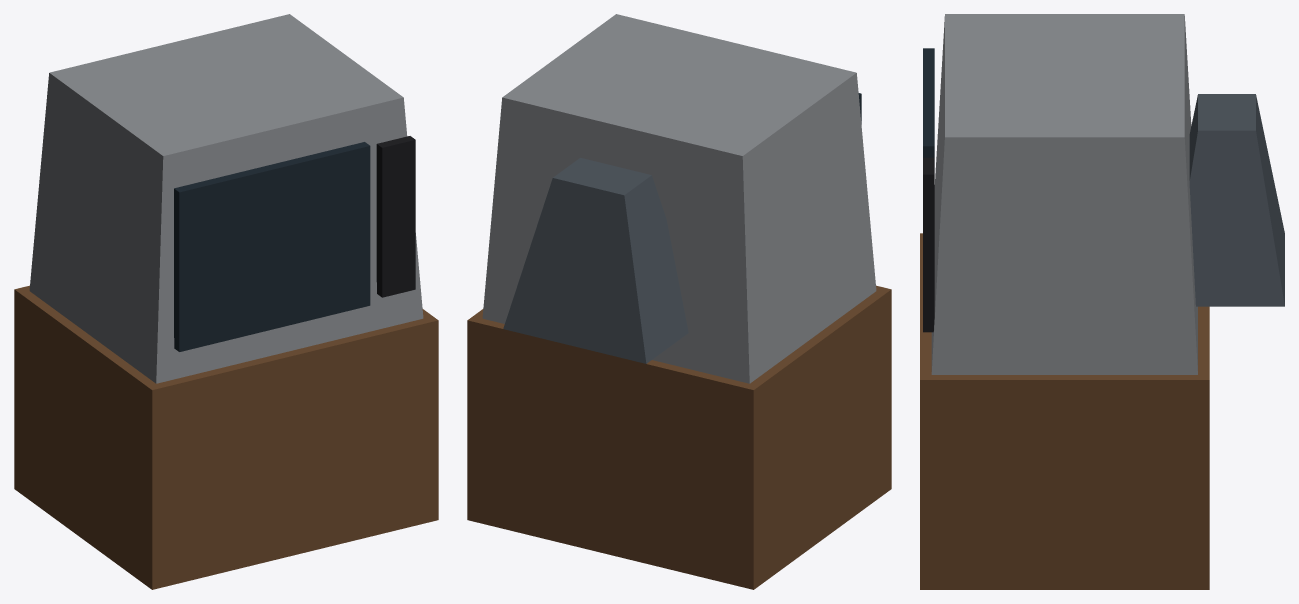
The model's file is GD_TV_CRT_01.glb.
3 views of the same model, side by side, from view 1: azimuth 30°, elevation 25°; view 2: azimuth 150°, elevation 25°; view 3: azimuth 270°, elevation 25° (orthographic). The views are drawn at different scales.
Parts seen in each view (by area): view 1: GD_TV_CRT_01; view 2: GD_TV_CRT_01; view 3: GD_TV_CRT_01.
Part boxes in pixels (x1=…): GD_TV_CRT_01: x1=14, y1=14, x2=438, y2=589; GD_TV_CRT_01: x1=467, y1=14, x2=891, y2=589; GD_TV_CRT_01: x1=920, y1=14, x2=1284, y2=589.
Size of the model in its own units: 0.6 by 0.84 by 0.63.
1 material, 1 textured.
